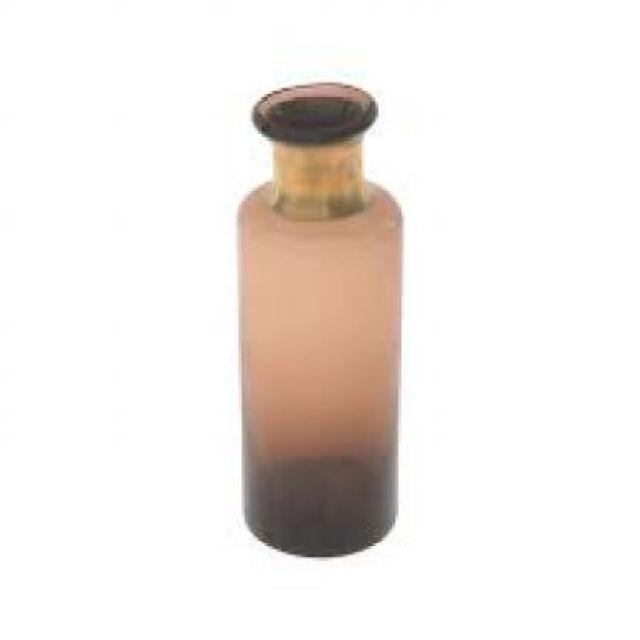kaca: (234, 80, 395, 557)
